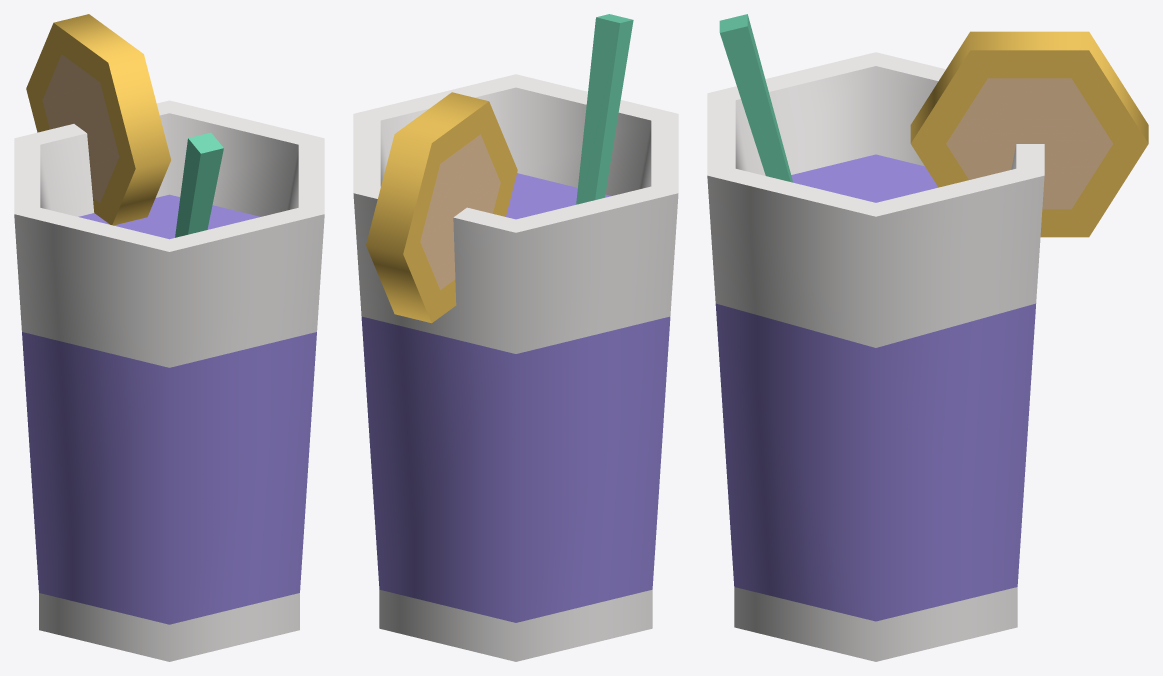
File: soda-glass.glb
3 views of the same model, side by side, from view 1: azimuth 30°, elevation 25°; view 2: azimuth 150°, elevation 25°; view 3: azimuth 270°, elevation 25° (orthographic). The views are drawn at different scales.
Visible parts, largest first — view 1: sodaGlass; view 2: sodaGlass; view 3: sodaGlass.
Boxes of the visible parts, x1,y1,x2,y2 form: sodaGlass: [14, 14, 324, 661]; sodaGlass: [353, 14, 678, 661]; sodaGlass: [707, 14, 1148, 661].
Bounding box in the file's own units: 0.2618 × 0.4134 × 0.2967.
1 material, 1 textured.
